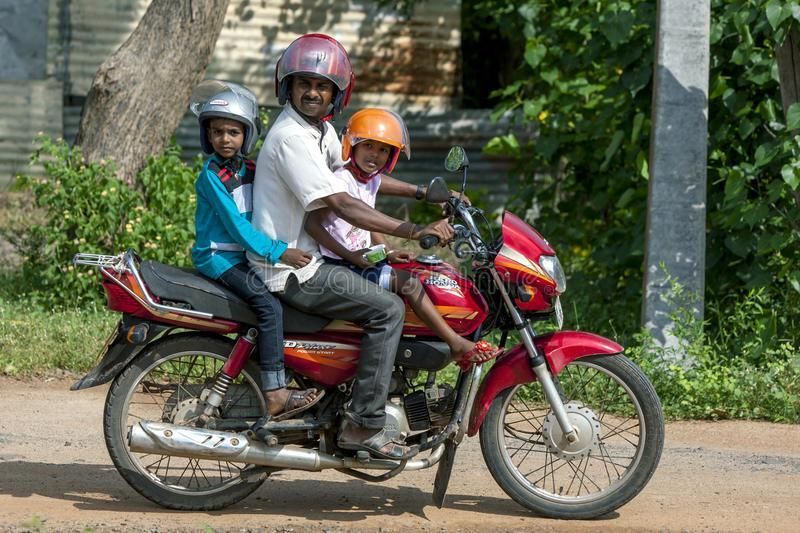motorbike: (69, 145, 665, 519)
